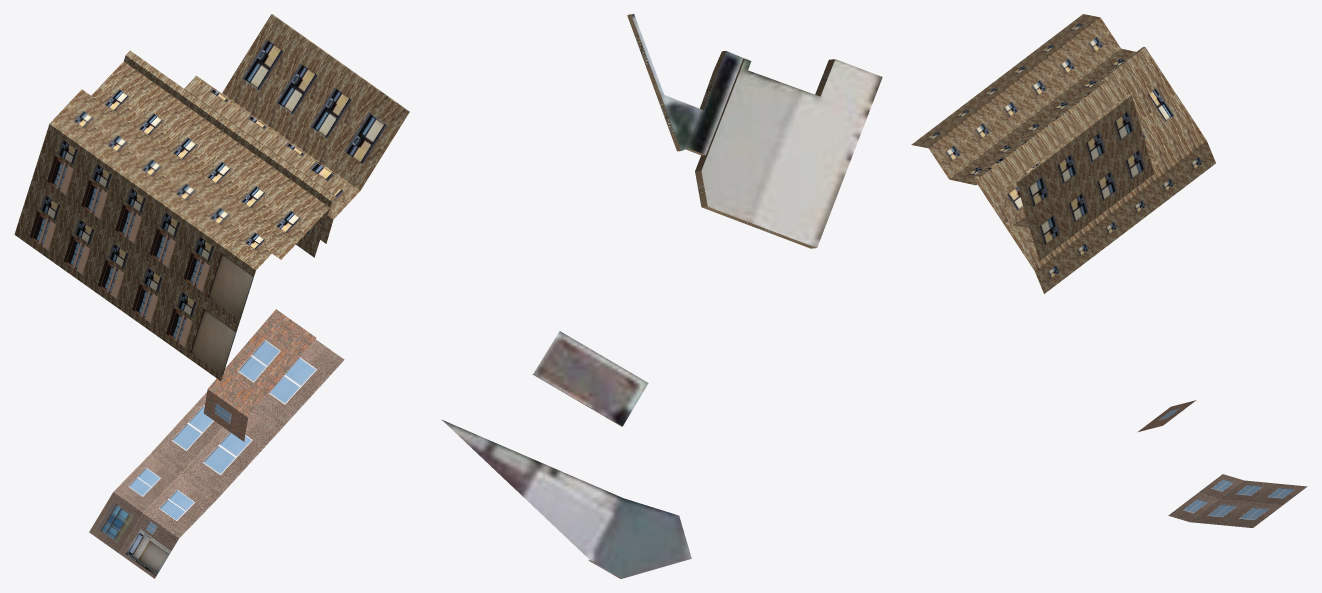
3 views of the same model, side by side, from view 1: azimuth 30°, elevation 25°; view 2: azimuth 150°, elevation 25°; view 3: azimuth 270°, elevation 25° (orthographic). The views are drawn at different scales.
Size of the model in its own units: 33.16 by 46.71 by 33.55.
Materials: 19 (19 with a texture image).
